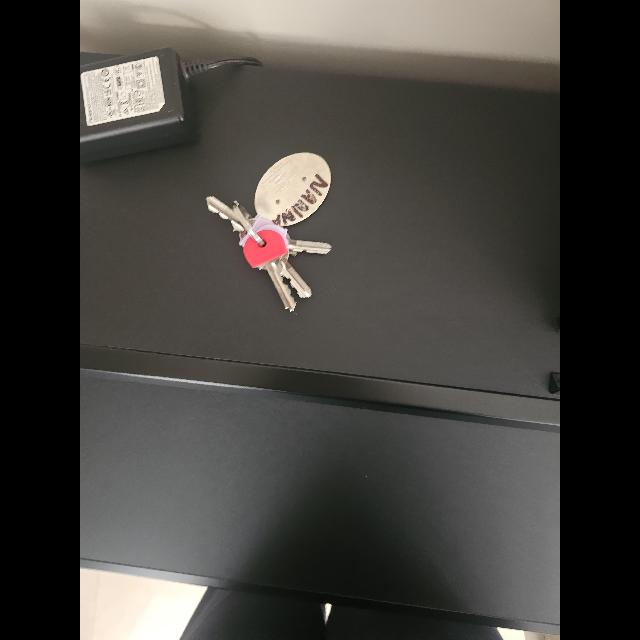Keys: (207, 154, 337, 314)
